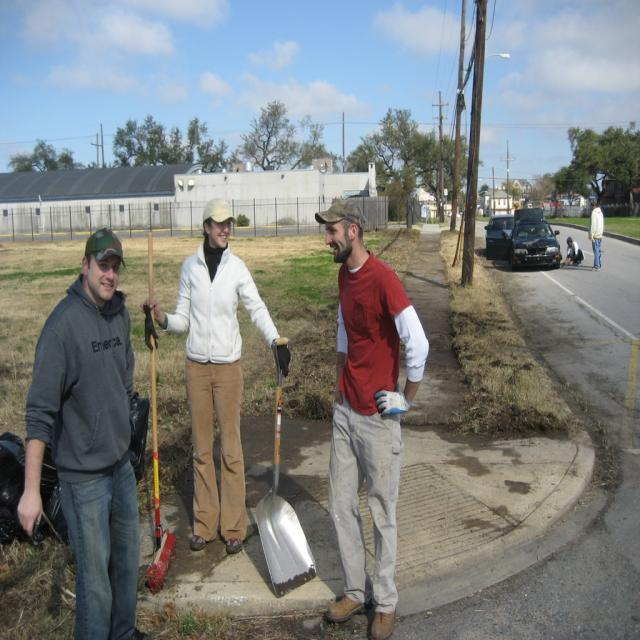car: (506, 213, 557, 266)
